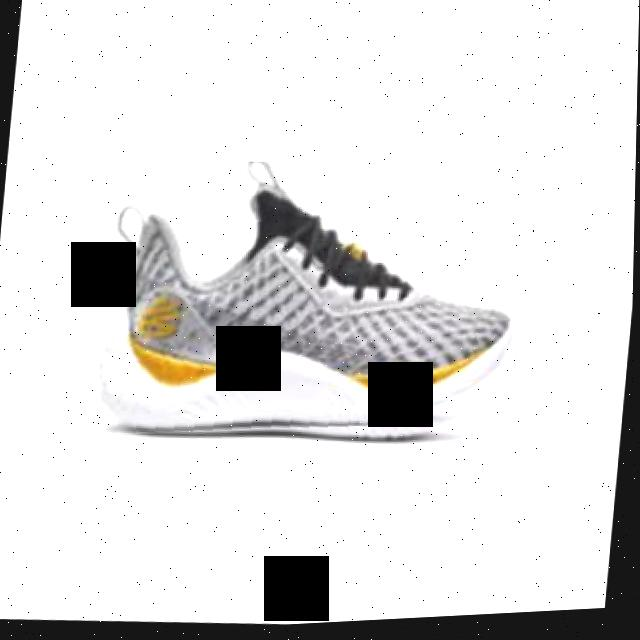shoe: (98, 143, 541, 466)
